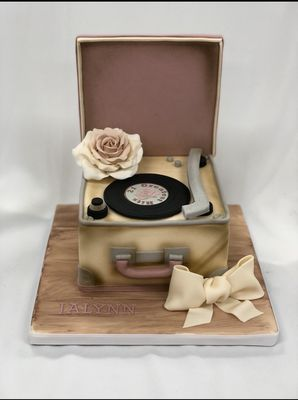salad: (72, 33, 232, 348)
